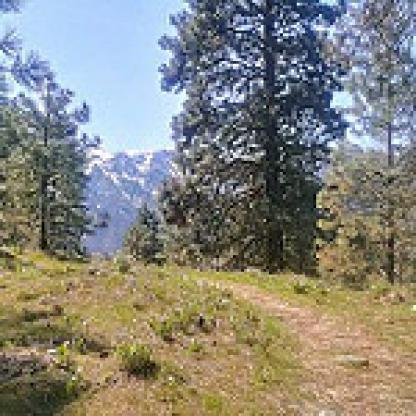tree: (166, 0, 344, 280), (350, 0, 414, 291), (6, 86, 97, 255)
trunk: (255, 0, 289, 272), (382, 92, 396, 288), (36, 120, 53, 252)
